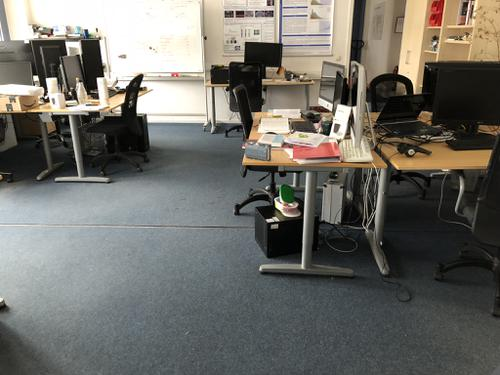device: (246, 142, 272, 162)
